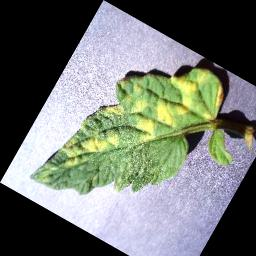Leaf_Mold: (148, 54, 212, 132), (53, 114, 122, 184), (129, 112, 165, 148), (120, 82, 153, 118), (206, 81, 233, 113), (99, 97, 129, 125)
